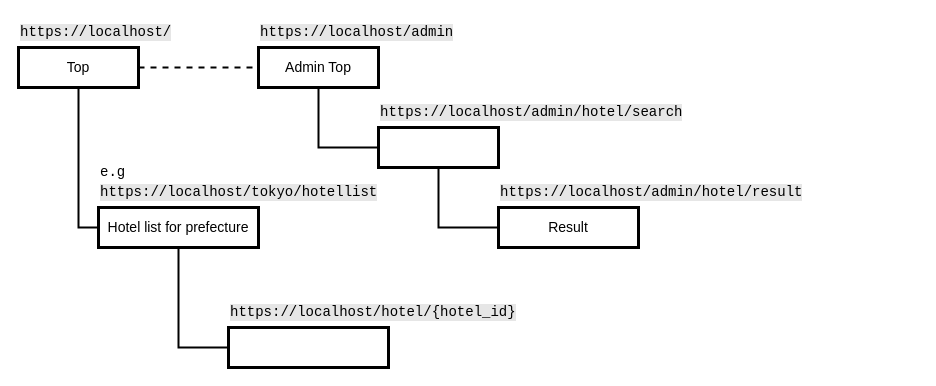
Some shapes in this 936 by 386 pixel diagram are drawn without their labels. Here are the shapes that lost their labels. From the top down, the box of each, then its label:
(376, 126, 500, 168): Search Hotel
(226, 326, 390, 368): About the hotel
